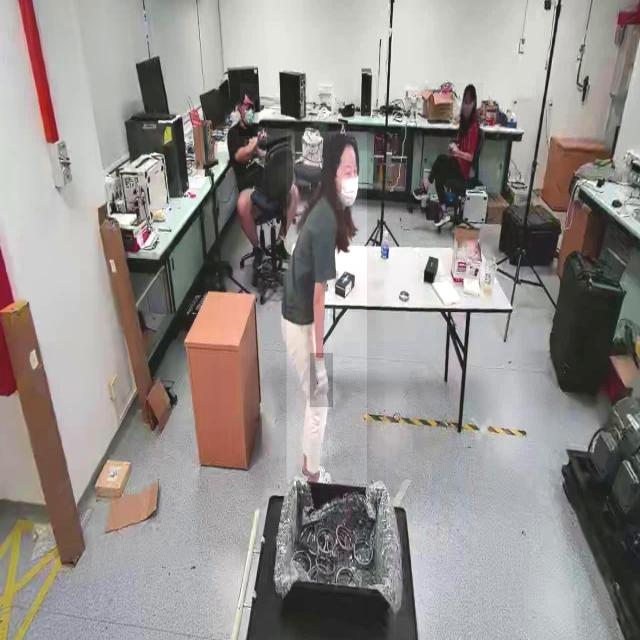face_mask: (336, 163, 362, 210), (238, 101, 258, 136)
hand_glove: (309, 353, 333, 408)
hand_noglove: (253, 127, 267, 146), (248, 135, 260, 155), (449, 140, 461, 156)
head_nohelmet: (328, 133, 360, 153), (240, 84, 258, 100), (463, 84, 478, 95)
person: (286, 132, 367, 484), (230, 85, 296, 272), (411, 83, 483, 231)
shoes: (274, 227, 292, 269), (248, 242, 268, 274)
